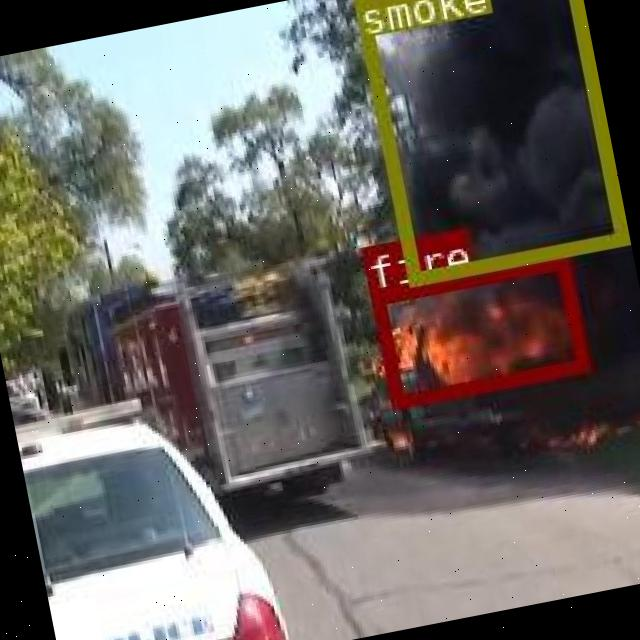fire: (370, 254, 588, 406)
smoke: (352, 0, 624, 282)
